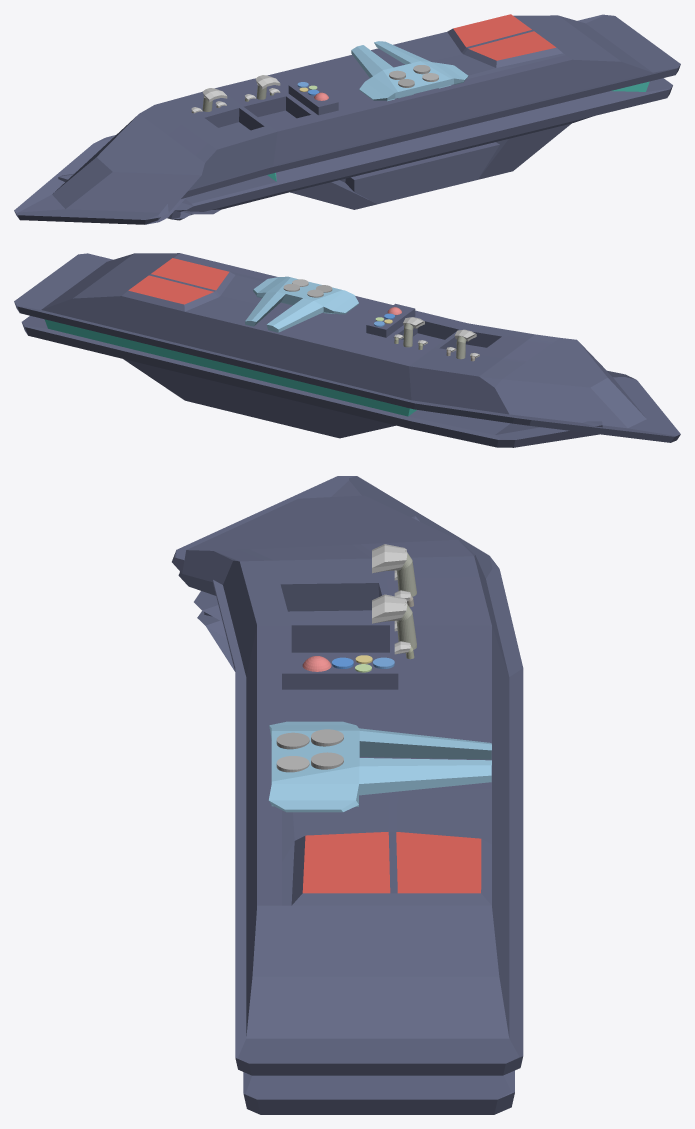
Rendered from OvenSetup.fbx.
3 renders of one model, top to bottom at view 1: azimuth 30°, elevation 25°; view 2: azimuth 150°, elevation 25°; view 3: azimuth 270°, elevation 25°, orthographic. The views are drawn at different scales.
Visible parts, largest first — view 1: Cylinder.014; view 2: Cylinder.014; view 3: Cylinder.014.
Boxes of the visible parts, left/top/right/bottom form: Cylinder.014: left=14, top=14, right=680, bottom=224; Cylinder.014: left=14, top=253, right=680, bottom=447; Cylinder.014: left=172, top=476, right=523, bottom=1114.
Size of the model in its own units: 5.86 by 1.14 by 1.43.
